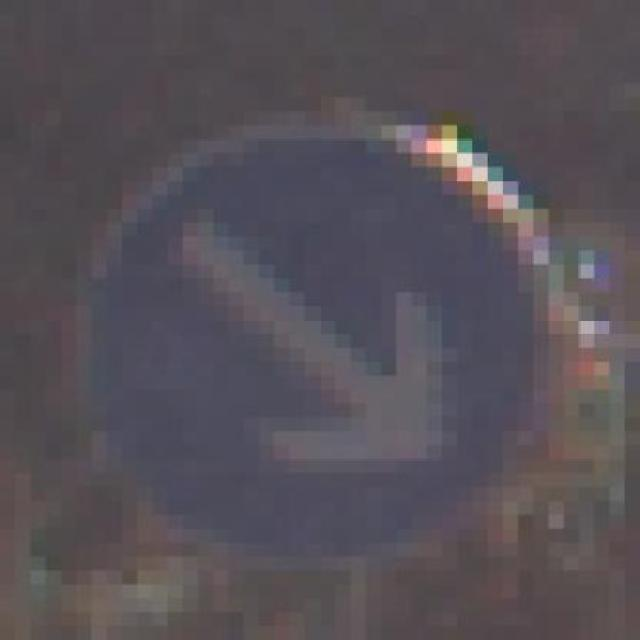Keep-Right: (61, 69, 579, 585)
